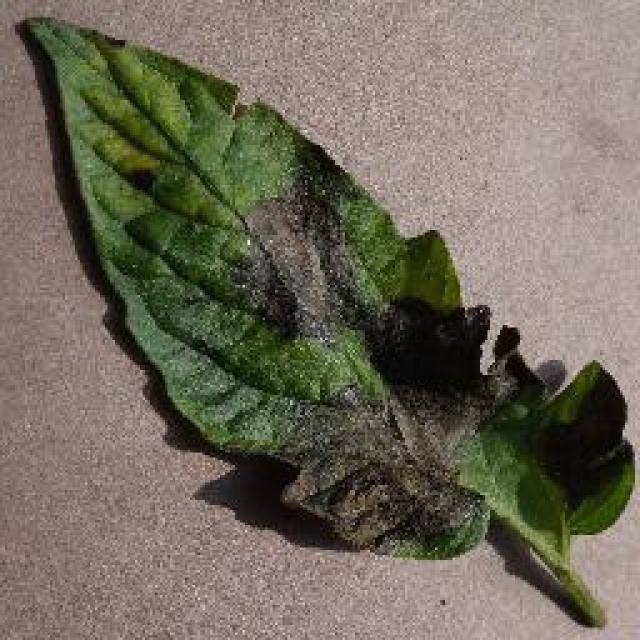Tomato___Late_blight: (25, 18, 632, 622)
